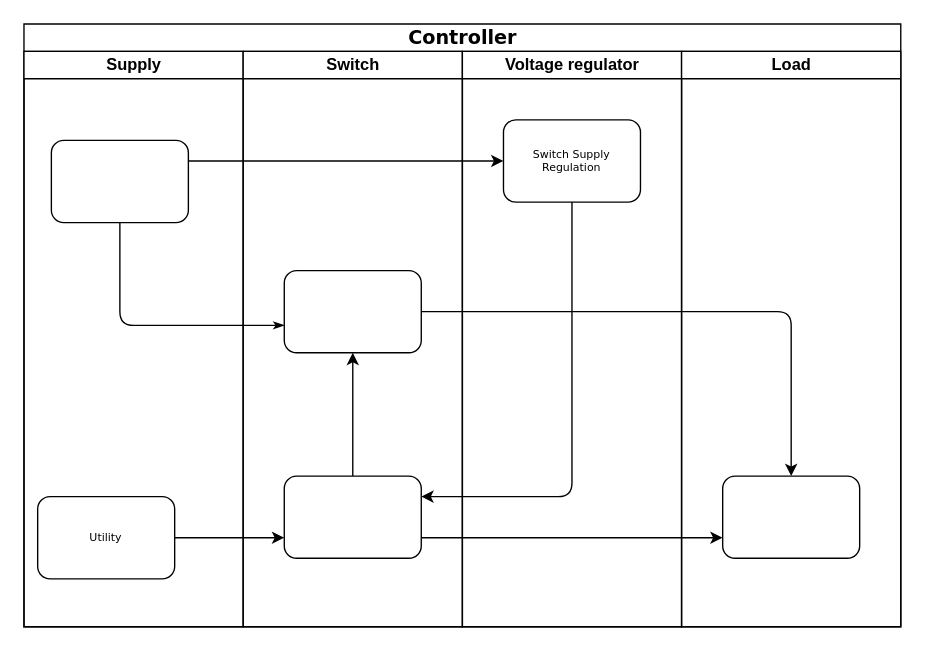
The diagram is 925 pixels wide and 651 high, and some of its shapes have lost their labels. The centre of each missing label's shape, as x and y in pixels:
Geyser: (x=790, y=516)
Relay: (x=352, y=516)
Solar: (x=119, y=181)
Solid state switch: (x=352, y=311)
